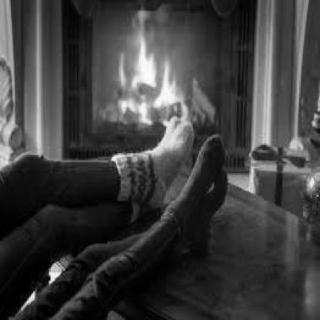Fire: (99, 16, 199, 124)
other: (165, 131, 231, 241)
